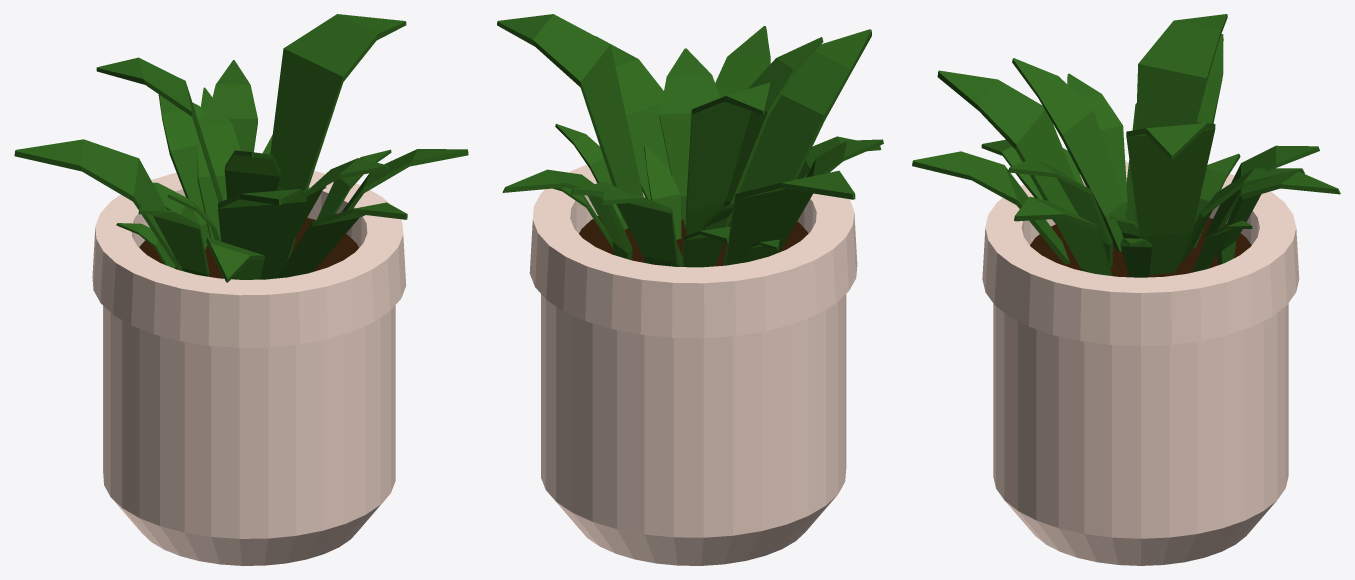
Rendered from M_PotDeFleursBlanc.fbx.
3 renders of one model, left to right at view 1: azimuth 30°, elevation 25°; view 2: azimuth 150°, elevation 25°; view 3: azimuth 270°, elevation 25°, orthographic. The views are drawn at different scales.
Parts seen in each view (by area): view 1: Plane.014; view 2: Plane.014; view 3: Plane.014.
Boxes of the visible parts, left/top/right/bottom form: Plane.014: left=14, top=14, right=468, bottom=565; Plane.014: left=497, top=14, right=883, bottom=565; Plane.014: left=912, top=14, right=1340, bottom=565.
Bounding box in the file's own units: 187 × 220 × 188.
